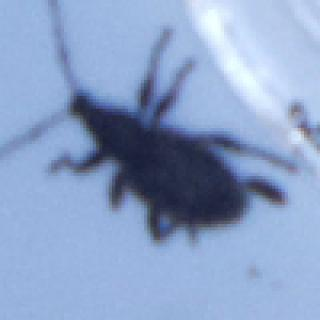bvw: (2, 0, 298, 243)
